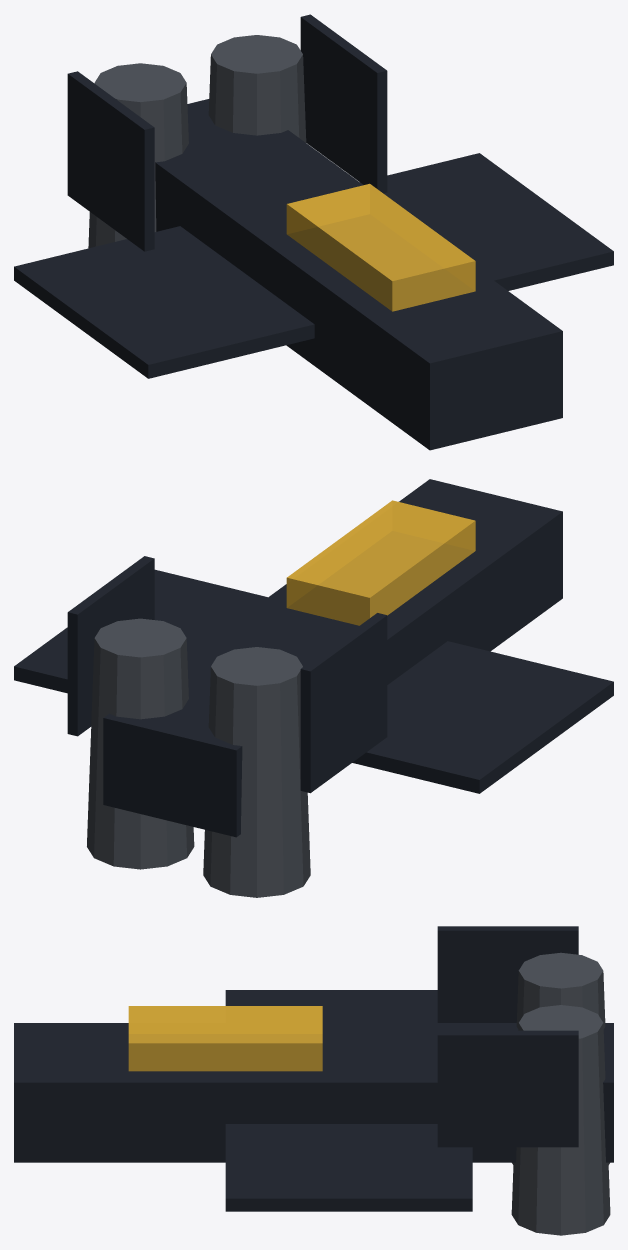
File: interceptor_fighter.obj
3 renders of one model, top to bottom at view 1: azimuth 30°, elevation 25°; view 2: azimuth 150°, elevation 25°; view 3: azimuth 270°, elevation 25°, orthographic. The views are drawn at different scales.
Visible parts, largest first — view 1: InterceptorFighter; view 2: InterceptorFighter; view 3: InterceptorFighter.
Boxes of the visible parts, <box> form: InterceptorFighter: <box>14,14,613,450</box>; InterceptorFighter: <box>14,479,613,897</box>; InterceptorFighter: <box>14,926,613,1235</box>.
Bounding box in the file's own units: 2.8 × 1.3 × 3.4.
